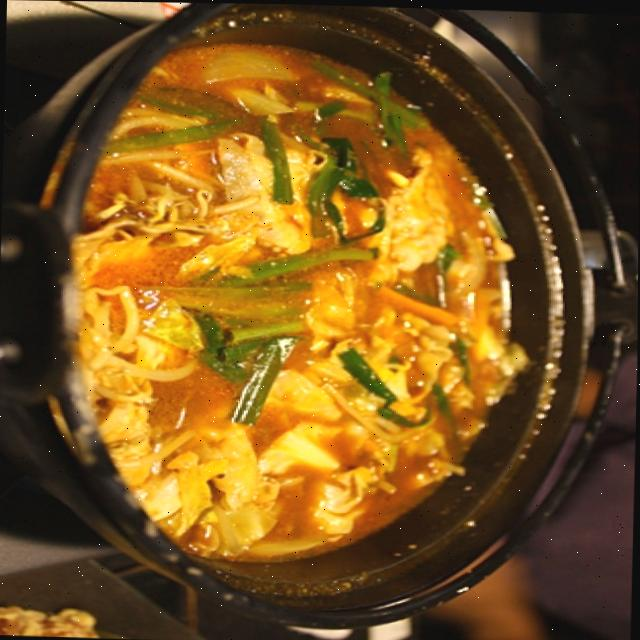汤锅炖物: (16, 3, 590, 605)
